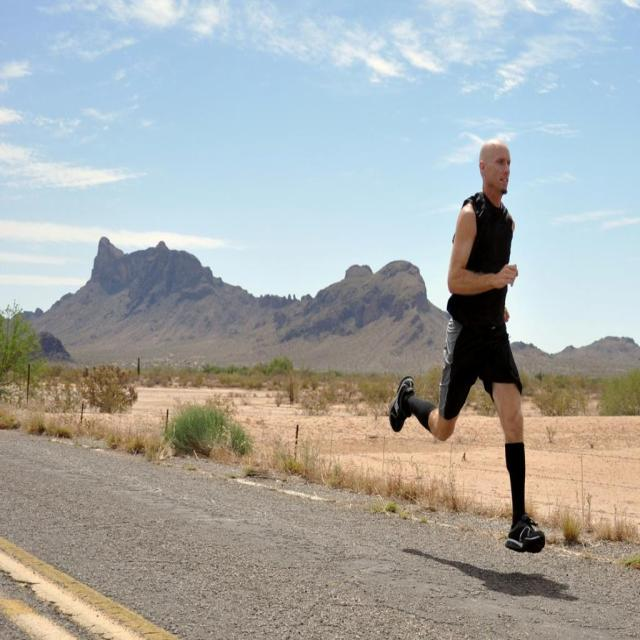Face: (485, 141, 515, 200)
